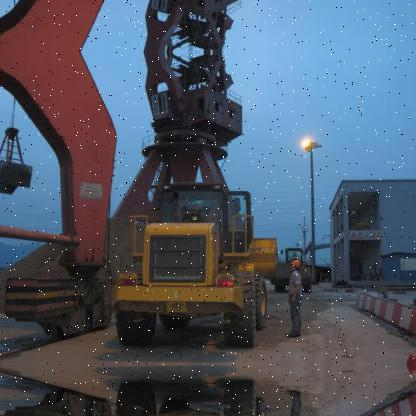helmet: (290, 257, 303, 272)
